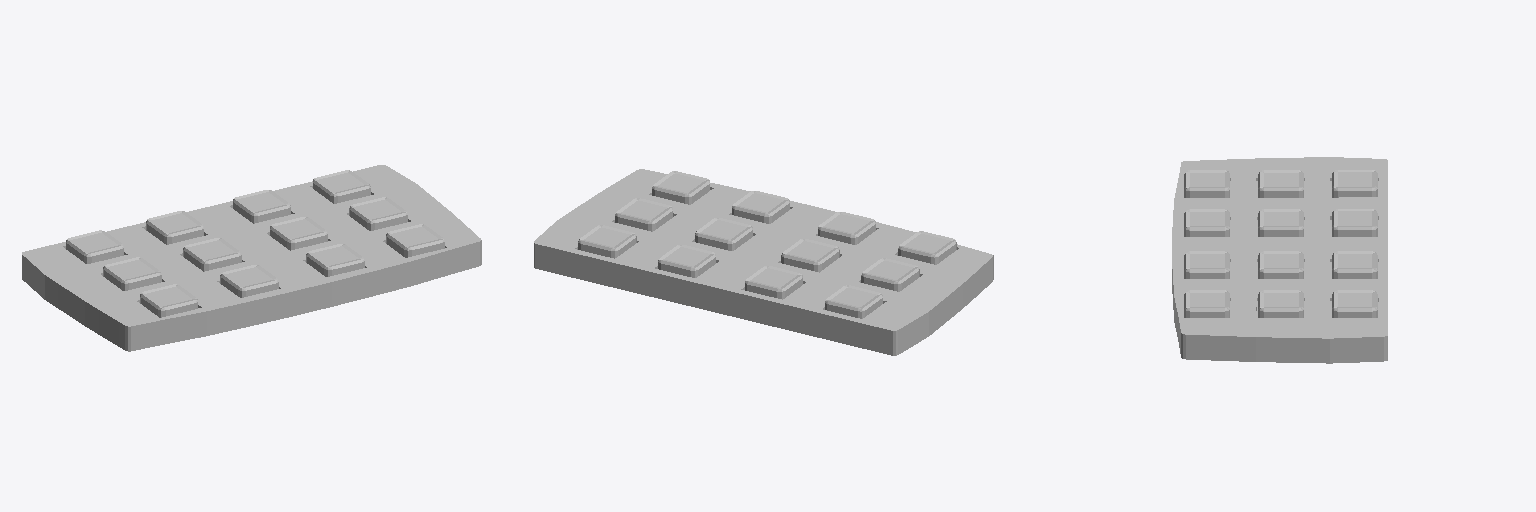
File: Keyboard_No_Cable.obj
The picture shows the model from 3 angles: view 1: azimuth 30°, elevation 25°; view 2: azimuth 150°, elevation 25°; view 3: azimuth 270°, elevation 25°; orthographic projection.
Parts seen in each view (by area): view 1: Keyboard, Keys; view 2: Keyboard, Keys; view 3: Keyboard, Keys.
Boxes of the visible parts, <box> form: Keyboard: <box>22,165,481,351</box>; Keys: <box>66,170,444,317</box>; Keyboard: <box>534,169,993,355</box>; Keys: <box>578,171,956,318</box>; Keyboard: <box>1172,157,1387,363</box>; Keys: <box>1184,170,1377,317</box>.
Size of the model in its own units: 0.5171 by 0.0445 by 0.2599.